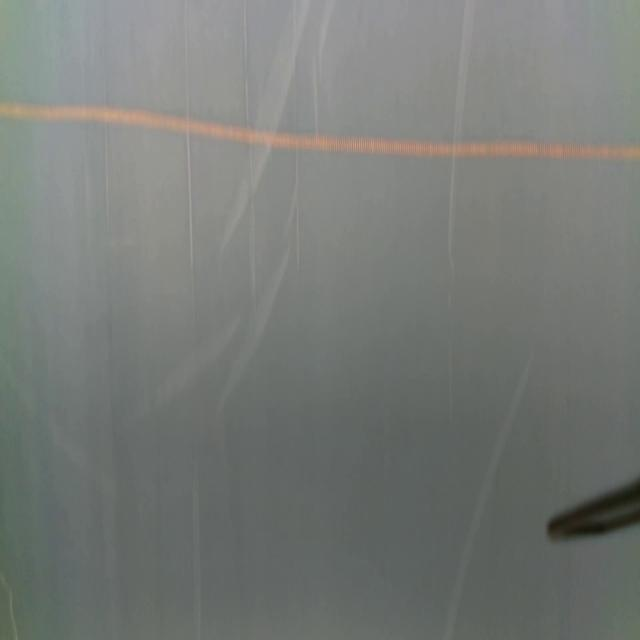crease: (442, 356, 535, 640), (218, 241, 296, 413), (124, 312, 238, 422), (447, 0, 476, 291), (241, 2, 259, 303), (182, 0, 196, 305), (289, 2, 304, 268), (189, 459, 204, 640), (102, 48, 113, 239), (317, 0, 337, 62), (311, 56, 322, 140)
